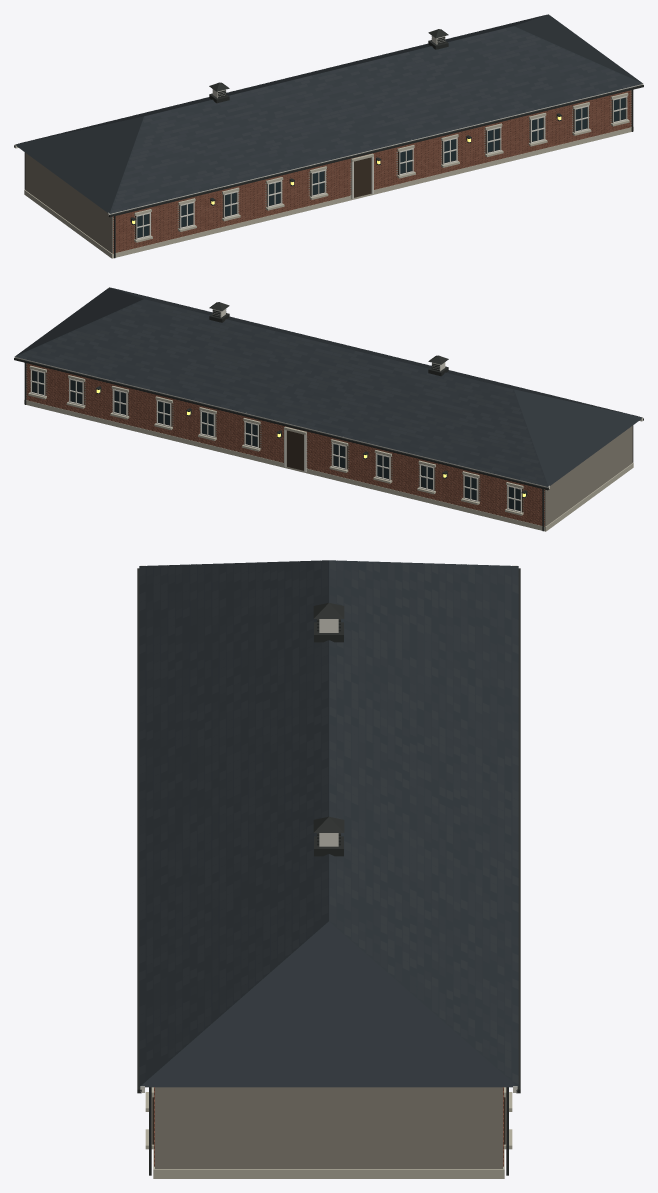
The model's file is grasslands-clubhouse.glb.
The picture shows the model from 3 angles, top to bottom: view 1: azimuth 30°, elevation 25°; view 2: azimuth 150°, elevation 25°; view 3: azimuth 270°, elevation 25°; orthographic projection. The views are drawn at different scales.
Visible parts, largest first — view 1: charcoal slate 0, charcoal slate 3, charcoal slate 2, charcoal slate 1, pale sandstone trim, handmade brick 2, handmade brick 4, handmade brick 0, handmade brick 3, handmade brick 1, recessed warm lime mortar, warm off white painted timber (+3 smaller); view 2: charcoal slate 0, charcoal slate 1, charcoal slate 3, charcoal slate 2, pale sandstone trim, handmade brick 2, handmade brick 1, handmade brick 3, handmade brick 4, handmade brick 0, recessed warm lime mortar, warm off white painted timber (+3 smaller); view 3: charcoal slate 0, charcoal slate 3, charcoal slate 1, charcoal slate 2, recessed warm lime mortar, aged dark exterior metal, pale sandstone trim.
Part boxes in pixels (x1,y1,x2,y2): charcoal slate 0: (15, 14, 642, 213); charcoal slate 3: (36, 16, 631, 212); charcoal slate 2: (32, 15, 620, 210); charcoal slate 1: (20, 17, 639, 207); pale sandstone trim: (24, 92, 633, 258); handmade brick 2: (113, 90, 631, 249); handmade brick 4: (113, 92, 631, 252); handmade brick 0: (113, 92, 631, 250); handmade brick 3: (113, 91, 631, 251); handmade brick 1: (113, 90, 631, 253); recessed warm lime mortar: (25, 90, 631, 253); warm off white painted timber: (14, 14, 643, 239); charcoal slate 0: (15, 287, 642, 486); charcoal slate 1: (37, 289, 614, 485); charcoal slate 3: (18, 290, 637, 481); charcoal slate 2: (22, 290, 630, 483); pale sandstone trim: (24, 365, 633, 531); handmade brick 2: (26, 363, 544, 524); handmade brick 1: (26, 364, 544, 524); handmade brick 3: (26, 364, 544, 525); handmade brick 4: (26, 366, 544, 526); handmade brick 0: (26, 363, 544, 521); recessed warm lime mortar: (26, 363, 632, 526); warm off white painted timber: (14, 287, 643, 512); charcoal slate 0: (139, 560, 518, 1087); charcoal slate 3: (139, 560, 518, 1083); charcoal slate 1: (139, 561, 518, 1083); charcoal slate 2: (139, 560, 518, 1077); recessed warm lime mortar: (155, 1087, 502, 1168); aged dark exterior metal: (137, 568, 520, 1175); pale sandstone trim: (145, 1087, 512, 1178).
Size of the model in its own units: 39 by 7.48 by 12.12.
